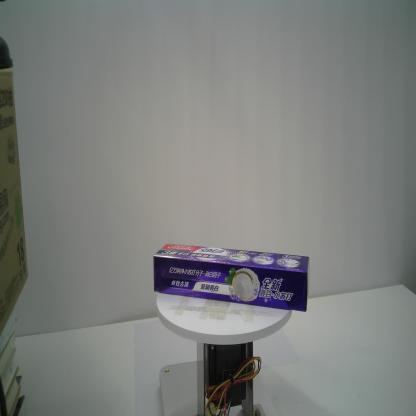Personal Hygiene: (149, 242, 312, 313)
